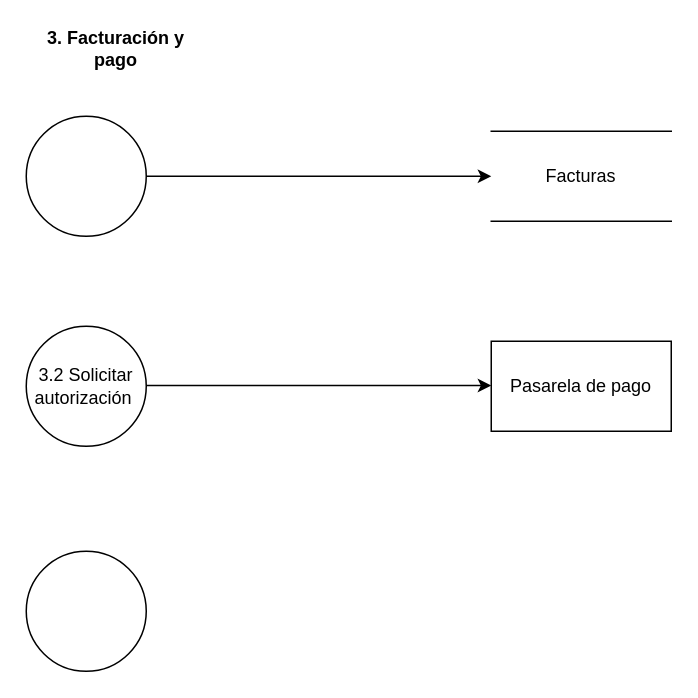
Some shapes in this 698 by 698 pixel diagram are drawn without their labels. Here are the shapes that lost their labels. From the top down, the box of each, then its label:
(25, 115, 146, 236): 3.1 Generar factura
(25, 550, 146, 671): 3.3 Actualizar factura
